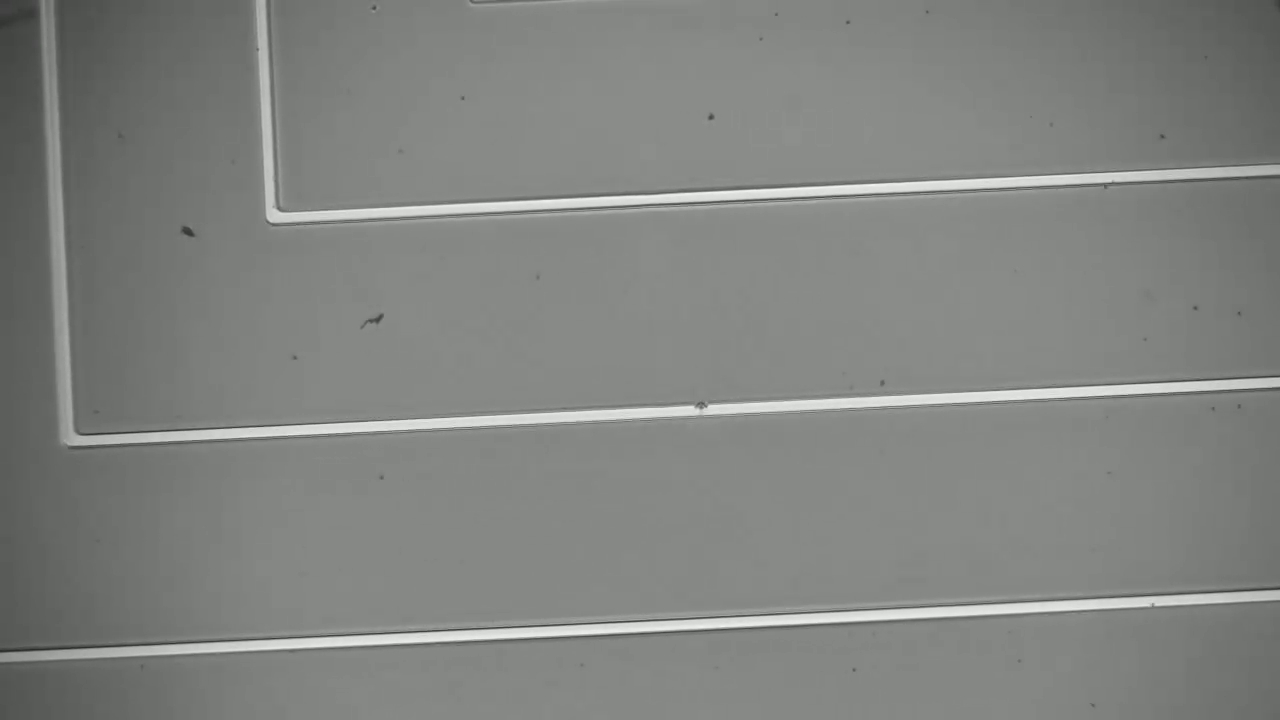stains_enbedded: (686, 391, 720, 422)
